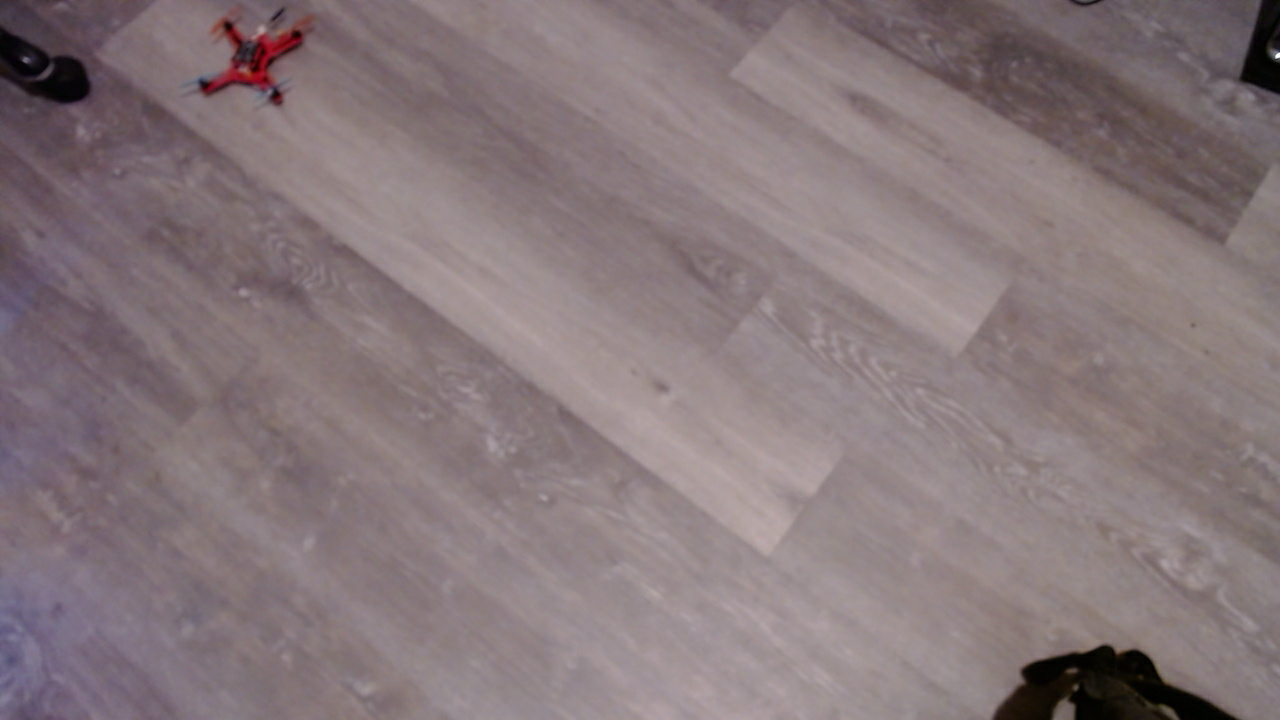crazyflie: (196, 7, 328, 129)
